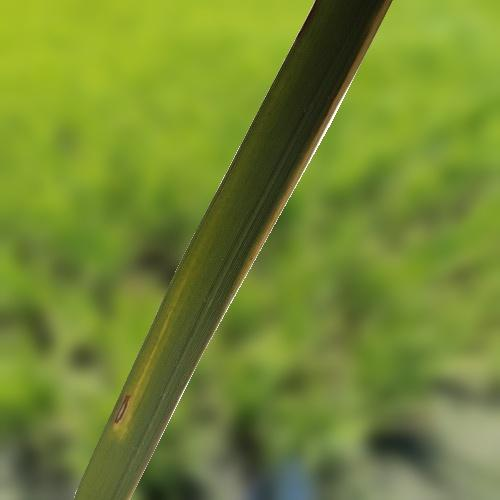LEAF BLAST: (114, 395, 129, 423)
